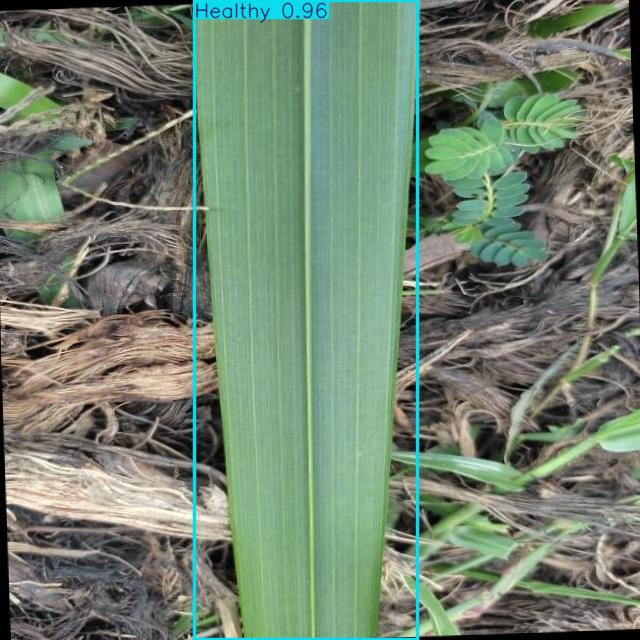Healthy: (195, 0, 418, 640)
